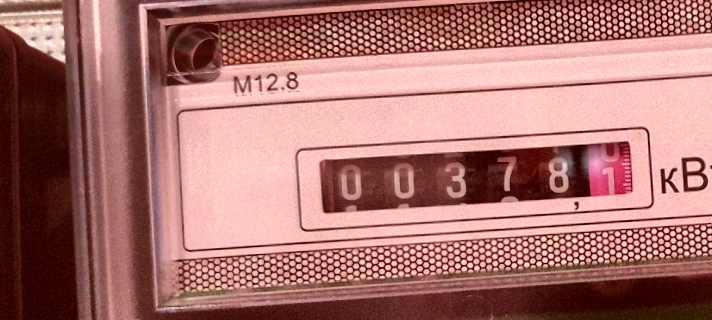0: (337, 160, 365, 201), (390, 160, 416, 199), (598, 140, 621, 163)
1: (598, 163, 618, 196)
3: (441, 159, 468, 200)
7: (494, 153, 518, 192)
8: (545, 154, 570, 194)
screen: (298, 122, 652, 223)
